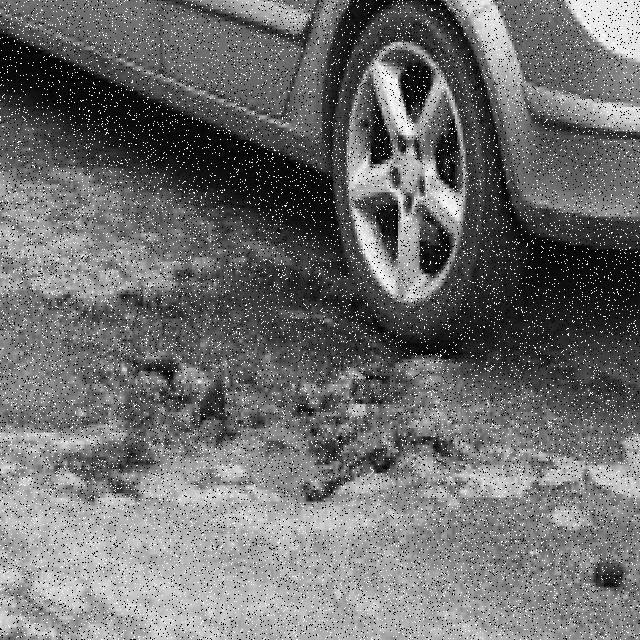pothole: (127, 253, 411, 546)
